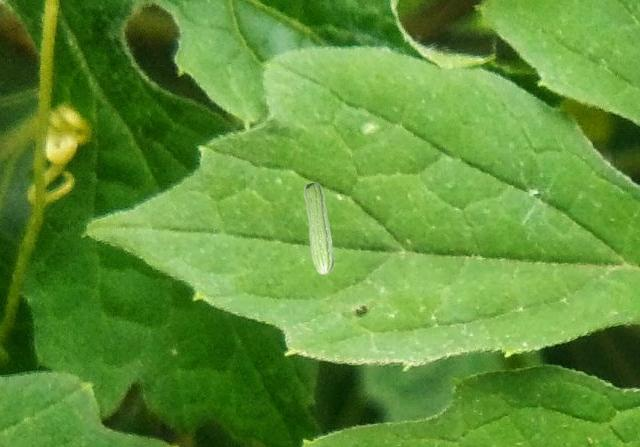ampalaya: (302, 181, 336, 276)
